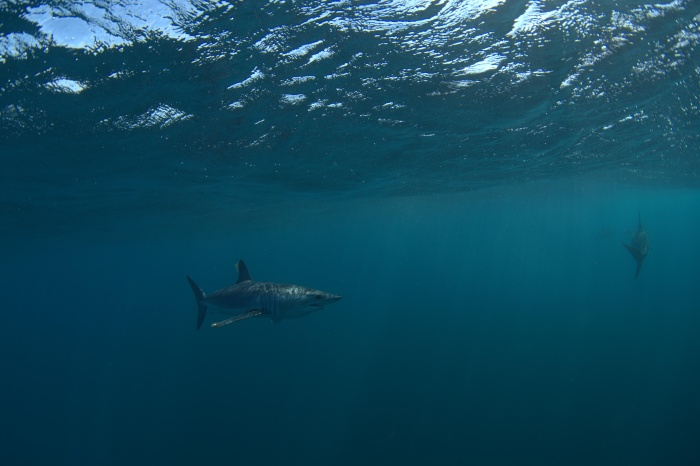Mako: (176, 256, 344, 334)
